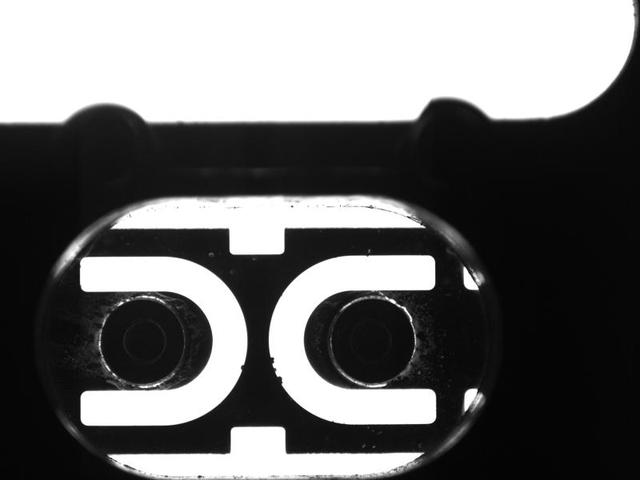Contact Mobile: (213, 229, 305, 454)
Pastille T3_40A: (97, 296, 188, 389), (330, 295, 417, 387)
